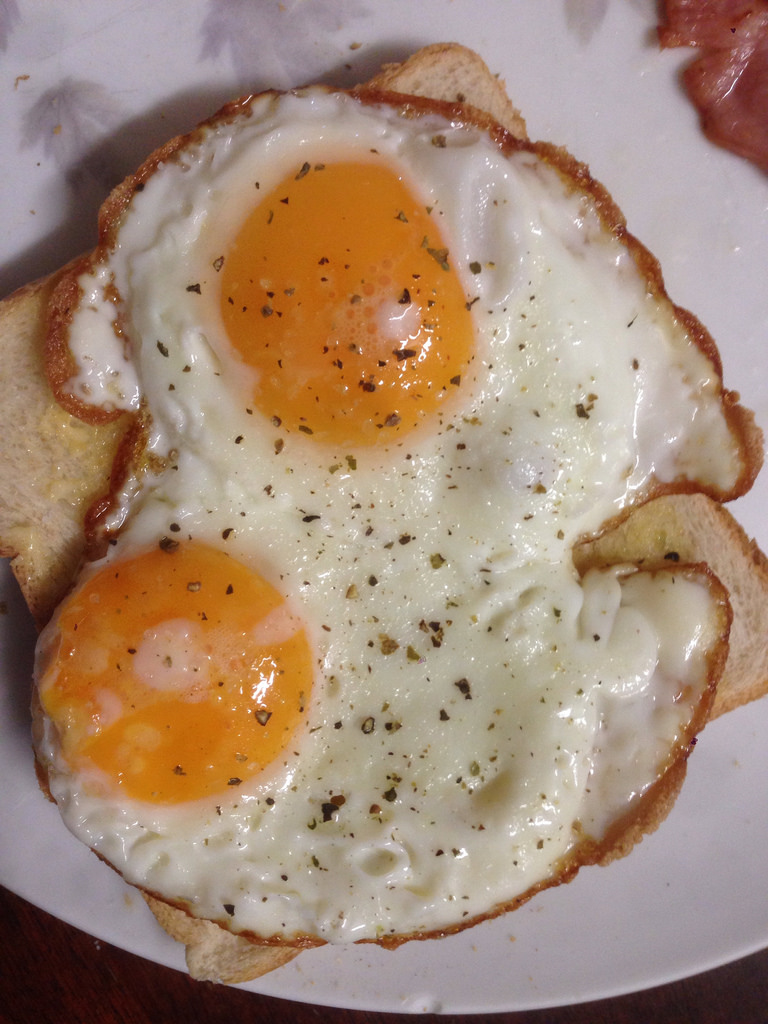fried egg: (65, 117, 697, 876)
